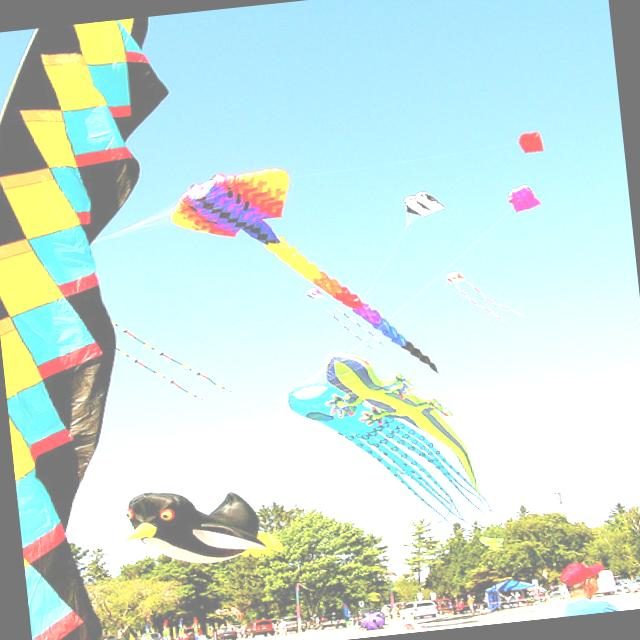Vehicle: (398, 598, 438, 620), (240, 616, 276, 640), (316, 607, 348, 631), (272, 614, 307, 634), (176, 626, 207, 640), (209, 626, 238, 640), (617, 579, 640, 592), (137, 631, 163, 640), (103, 636, 132, 640)
